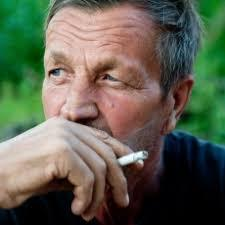smoke: (111, 150, 149, 167)
